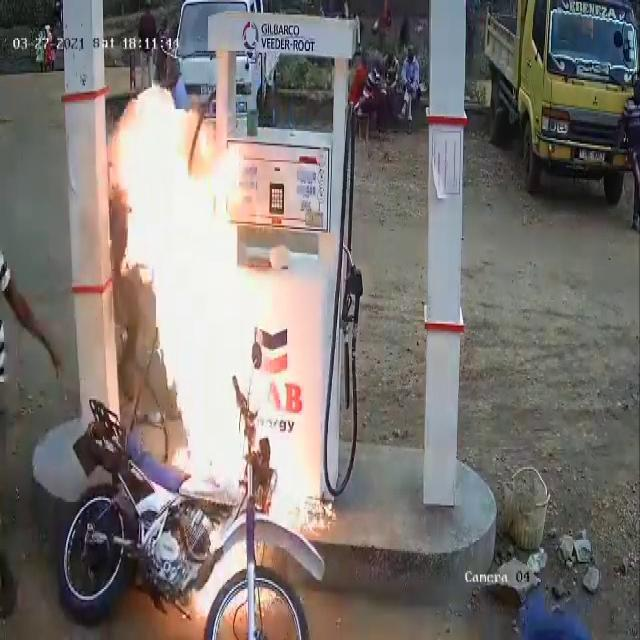Fire: (111, 82, 262, 482)
